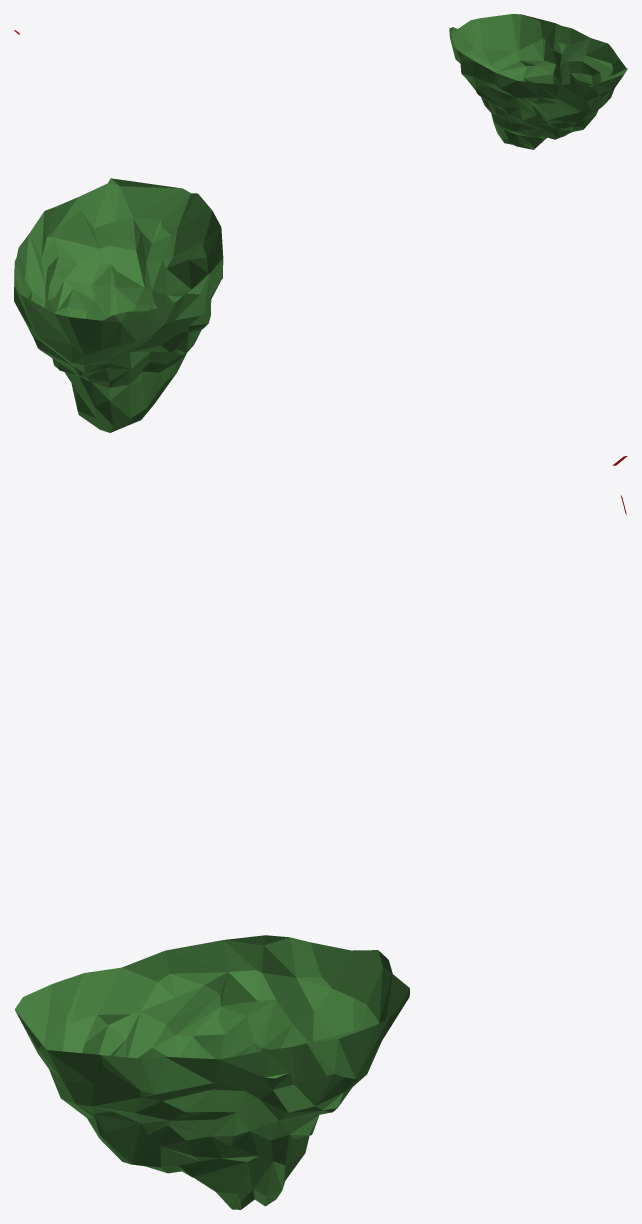
File: 2secondIsland-bottom.obj
3 views of the same model, one above another, from view 1: azimuth 30°, elevation 25°; view 2: azimuth 150°, elevation 25°; view 3: azimuth 270°, elevation 25° (orthographic). The views are drawn at different scales.
Parts seen in each view (by area): view 1: Merchant_island.002; view 2: Merchant_island.002; view 3: Merchant_island.002.
Part boxes in pixels (x1=…): Merchant_island.002: x1=449, y1=14, x2=627, y2=149; Merchant_island.002: x1=14, y1=178, x2=223, y2=432; Merchant_island.002: x1=15, y1=935, x2=409, y2=1209.
Size of the model in its own units: 132 by 39.66 by 72.61.
